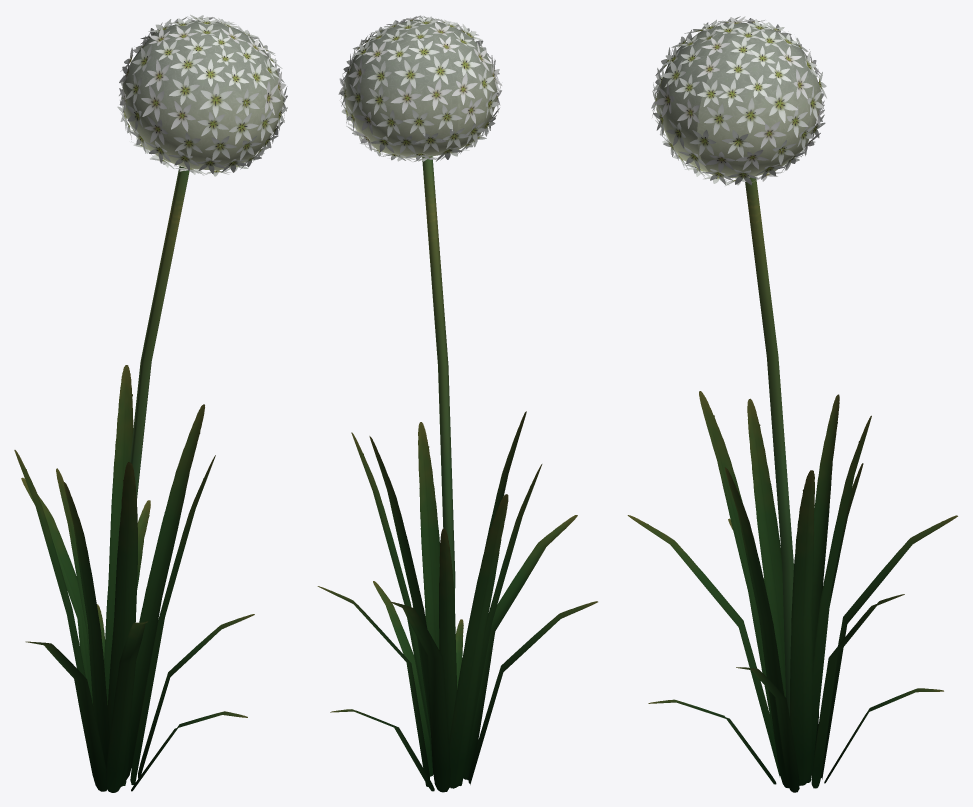
The model's file is molinillo.obj.
3 renders of one model, left to right at view 1: azimuth 30°, elevation 25°; view 2: azimuth 150°, elevation 25°; view 3: azimuth 270°, elevation 25°, orthographic. The views are drawn at different scales.
Bounding box in the file's own units: 0.2111 × 0.603 × 0.2307.
1 material, 1 textured.
